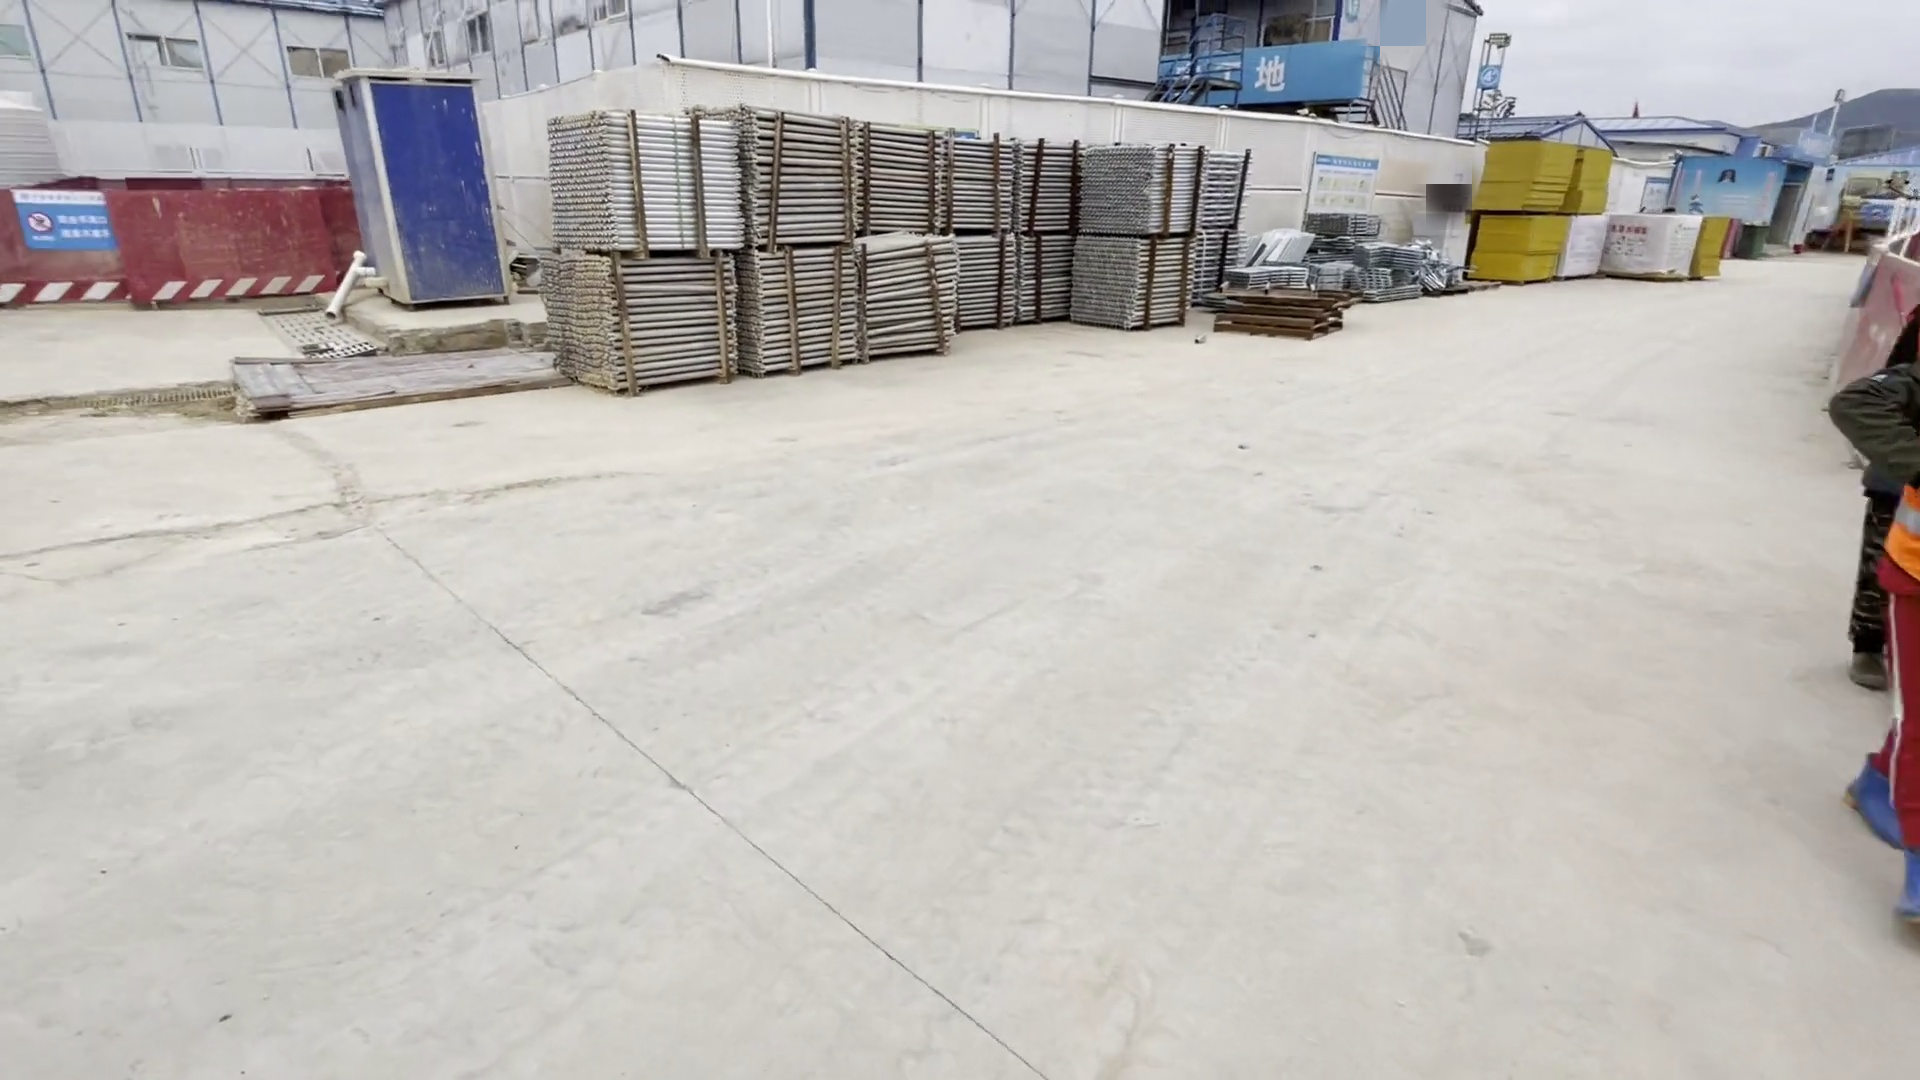board: (1472, 142, 1573, 294)
scaffold: (534, 102, 1251, 404), (1261, 199, 1455, 318)
